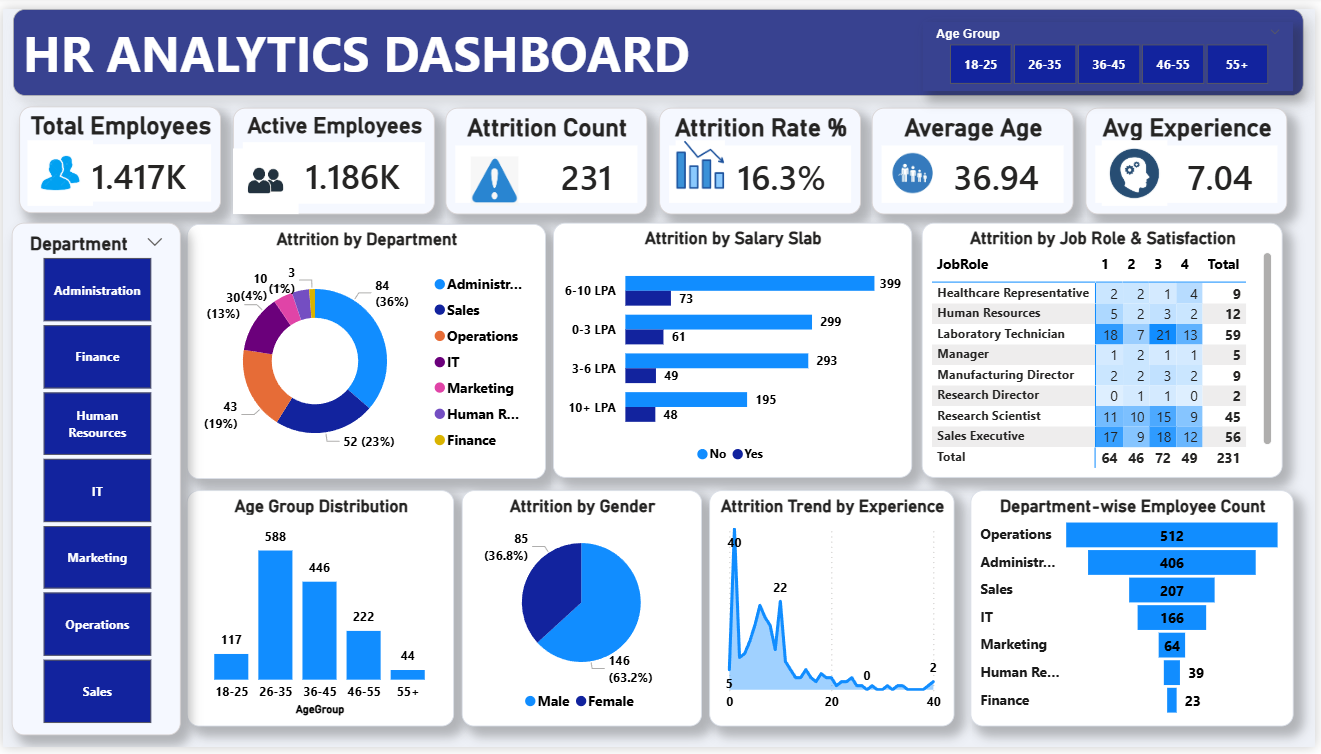

The page's visual inventory and layout, read from the dashboard file:
{"tool":"powerbi","page":{"name":"Page 1","canvas":[1280,720],"ordinal":0},"visuals":[{"type":"textbox","box":[10,0,1259,85],"z":0},{"type":"cardVisual","title":"Total Employees","fields":{"Data":["CountNonNull(HR_Analytics-4.EmpID)"]},"box":[16,95,197,104],"z":1000},{"type":"cardVisual","title":"Active Employees","fields":{"Data":["CountNonNull(HR_Analytics-4.EmployeeCount)"]},"box":[224,96,197,104],"z":2000},{"type":"cardVisual","title":"Attrition Count","fields":{"Data":["Sum(HR_Analytics-4.AttritionCount)"]},"box":[432,96,197,104],"z":3000},{"type":"cardVisual","title":"Attrition Rate %","fields":{"Data":["HR_Analytics-4.Attrition rate %"]},"box":[640,96,197,104],"z":4000},{"type":"cardVisual","title":"Average Age","fields":{"Data":["Avg(HR_Analytics-4.Age)"]},"box":[848,96,197,104],"z":5000},{"type":"cardVisual","title":"Avg Experience","fields":{"Data":["Avg(HR_Analytics-4.YearsatCompany)"]},"box":[1056,96,197,104],"z":6000},{"type":"image","box":[16,128,80,64],"z":7000},{"type":"image","box":[864,128,48,64],"z":8000},{"type":"image","box":[1072,128,64,64],"z":9000},{"type":"image","box":[448,144,64,48],"z":10000},{"type":"image","box":[224,128,64,80],"z":11000},{"type":"image","box":[640,128,80,48],"z":12000},{"type":"donutChart","title":" Attrition by Department","fields":{"Category":["HR_Analytics-4.Department"],"Y":["Sum(HR_Analytics-4.AttritionCount)"]},"box":[179,210,350,249],"z":13000},{"type":"clusteredBarChart","title":"Attrition by Salary Slab","fields":{"Y":["CountNonNull(HR_Analytics-4.EmpID)"],"Category":["HR_Analytics-4.SalarySlab"],"Series":["HR_Analytics-4.Attrition"]},"box":[537,209,350,249],"z":14000},{"type":"pivotTable","title":"Attrition by Job Role & Satisfaction","fields":{"Rows":["HR_Analytics-4.JobRole"],"Columns":["HR_Analytics-4.JobSatisfaction"],"Values":["Sum(HR_Analytics-4.AttritionCount)"]},"box":[896,208,352,249],"z":15000},{"type":"columnChart","title":"Age Group Distribution","fields":{"Category":["HR_Analytics-4.AgeGroup"],"Y":["Sum(HR_Analytics-4.EmployeeCount)"]},"box":[179,469,261,230],"z":16000},{"type":"pieChart","title":" Attrition by Gender","fields":{"Category":["HR_Analytics-4.Gender"],"Y":["Sum(HR_Analytics-4.AttritionCount)"]},"box":[448,469,234,230],"z":17000},{"type":"areaChart","title":"Attrition Trend by Experience","fields":{"Category":["HR_Analytics-4.TotalExperience(Years)"],"Y2":["Sum(HR_Analytics-4.AttritionCount)"]},"box":[689,469,239,230],"z":18000},{"type":"funnel","title":"Department-wise Employee Count","fields":{"Category":["HR_Analytics-4.Department"],"Y":["CountNonNull(HR_Analytics-4.EmpID)"]},"box":[944,469,315,230],"z":19000},{"type":"slicer","fields":{"Values":["HR_Analytics-4.Department"]},"box":[9,209,165,500],"z":20000},{"type":"slicer","fields":{"Values":["HR_Analytics-4.AgeGroup"]},"box":[898,12,361,68],"z":21000}]}

Visuals, with their boxes in screenshot pixels (x1, y1, x2, y2), scaled from the page's 1280x720 canvas onto the 1321x754 screenshot:
textbox: 10:0:1310:89
"Total Employees" cardVisual: 17:99:220:208
"Active Employees" cardVisual: 231:101:434:209
"Attrition Count" cardVisual: 446:101:649:209
"Attrition Rate %" cardVisual: 660:101:864:209
"Average Age" cardVisual: 875:101:1078:209
"Avg Experience" cardVisual: 1090:101:1293:209
image: 17:134:99:201
image: 892:134:941:201
image: 1106:134:1172:201
image: 462:151:528:201
image: 231:134:297:218
image: 660:134:743:184
" Attrition by Department" donutChart: 185:220:546:481
"Attrition by Salary Slab" clusteredBarChart: 554:219:915:480
"Attrition by Job Role & Satisfaction" pivotTable: 925:218:1288:479
"Age Group Distribution" columnChart: 185:491:454:732
" Attrition by Gender" pieChart: 462:491:704:732
"Attrition Trend by Experience" areaChart: 711:491:958:732
"Department-wise Employee Count" funnel: 974:491:1299:732
slicer - HR_Analytics-4.Department: 9:219:180:742
slicer - HR_Analytics-4.AgeGroup: 927:13:1299:84
